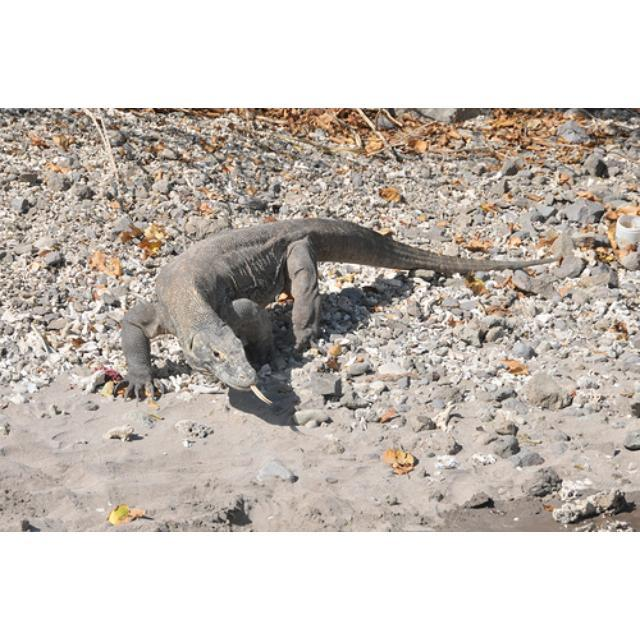KomodoDragon: (109, 216, 563, 402)
